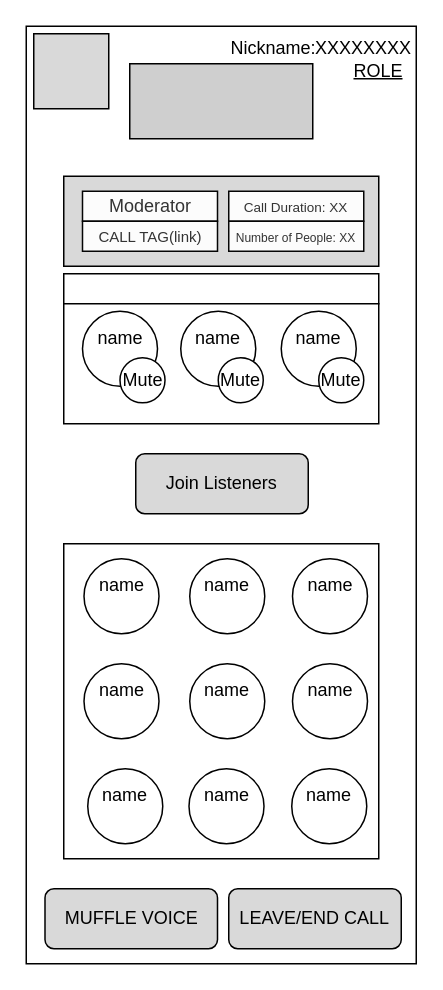
The diagram is 443 pixels wide and 990 high, and some of its shapes have lost their labels. The centre of each missing label's shape, as x and y in pixels:
CALL NAME: point 220,100
LOGO/ HOME: point 70,70
Speakers Pool:: point 220,288
